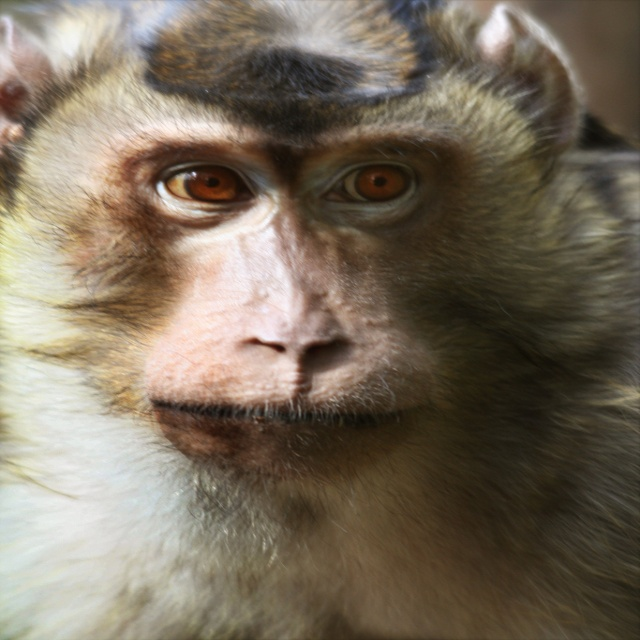Monkey: (12, 0, 638, 640)
